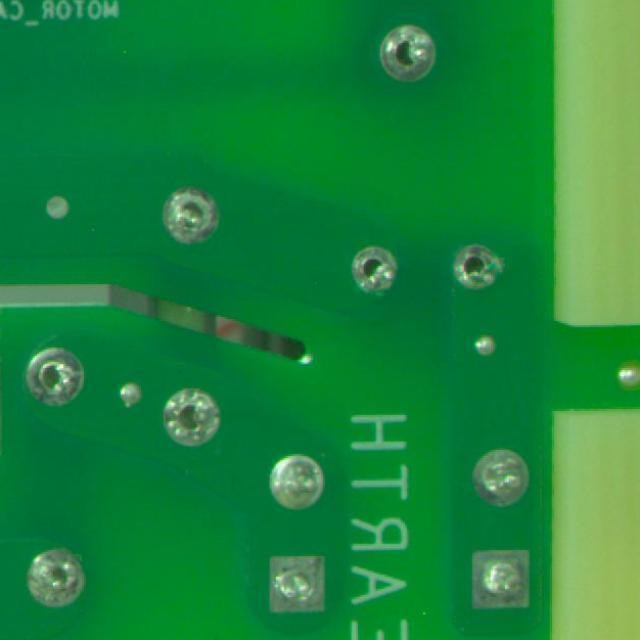Insufficient solder: (368, 17, 443, 98), (22, 542, 100, 616), (157, 174, 228, 255), (160, 378, 220, 450), (28, 338, 88, 410), (348, 235, 403, 303), (448, 242, 511, 296)
